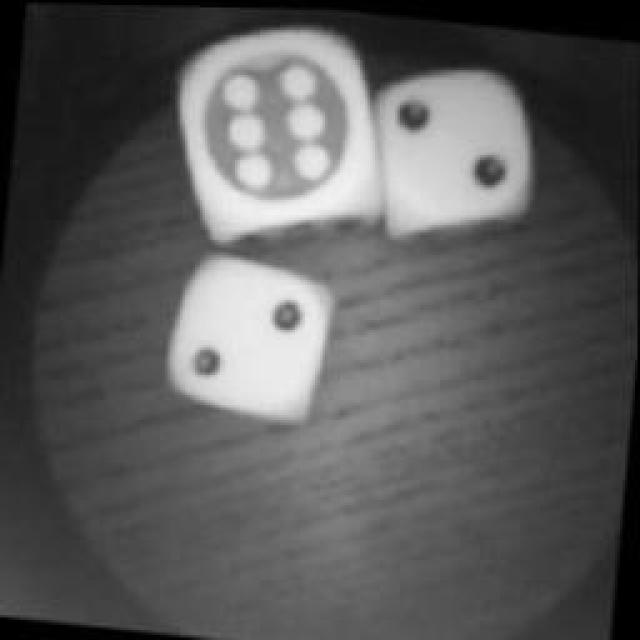dice_2: (358, 50, 554, 250), (160, 245, 340, 423)
dice_6: (162, 2, 398, 258)
